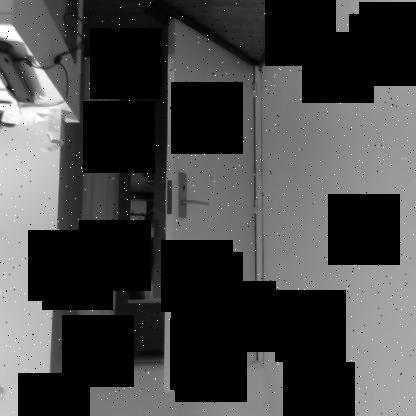Porte: (99, 18, 264, 395)
